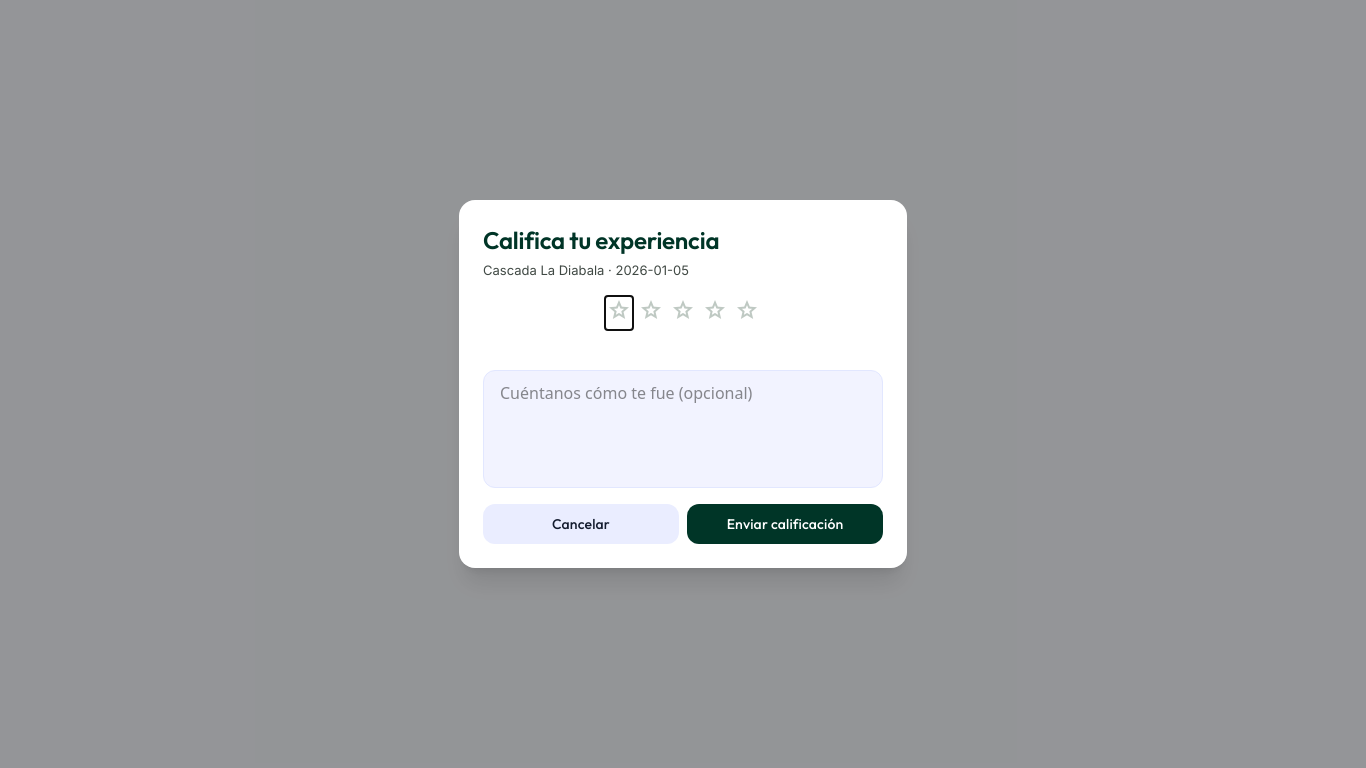
ModalCalificar › exige elegir estrellas antes de enviar
Click the button "Enviar calificación".
click(785, 524)  # box [687,504,883,544]
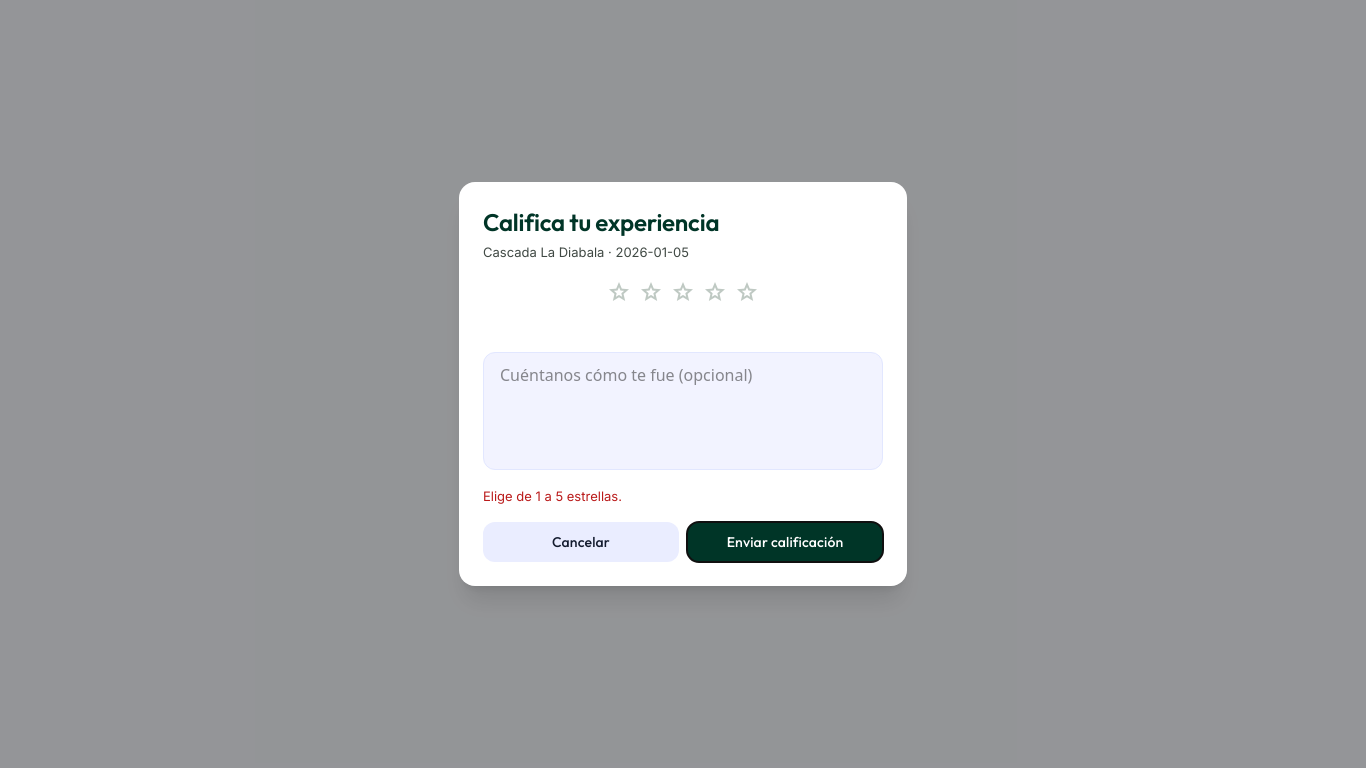
Now the text "Elige de 1 a 5 estrellas." is shown, box [483,488,622,504]
